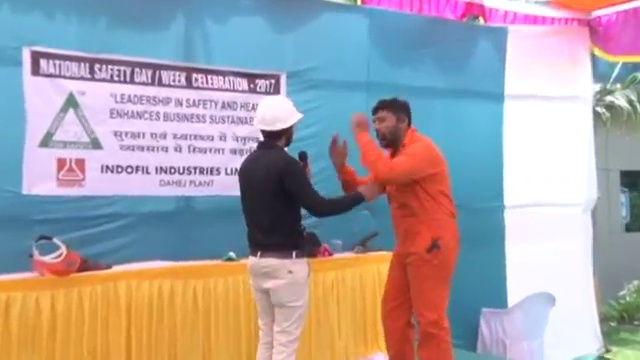helmet: (251, 95, 306, 130)
helmet_off: (370, 97, 414, 146)
helmet_on: (249, 95, 305, 152)
person: (325, 97, 460, 360), (233, 98, 368, 360)
